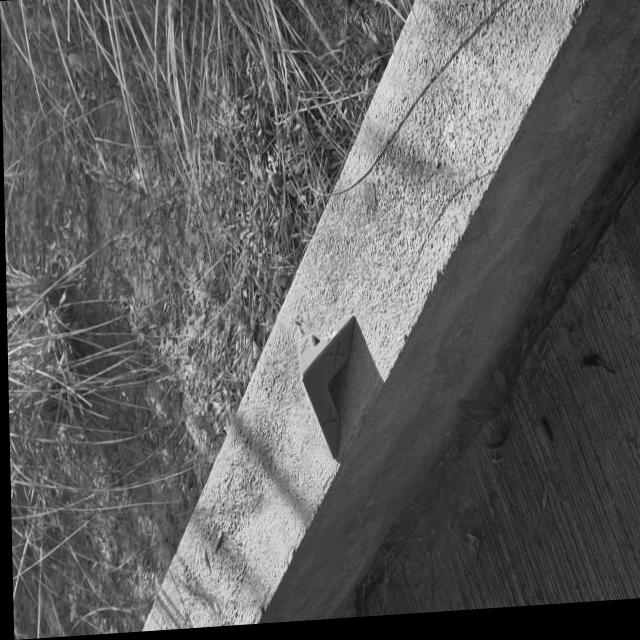eje: (295, 309, 360, 464)
